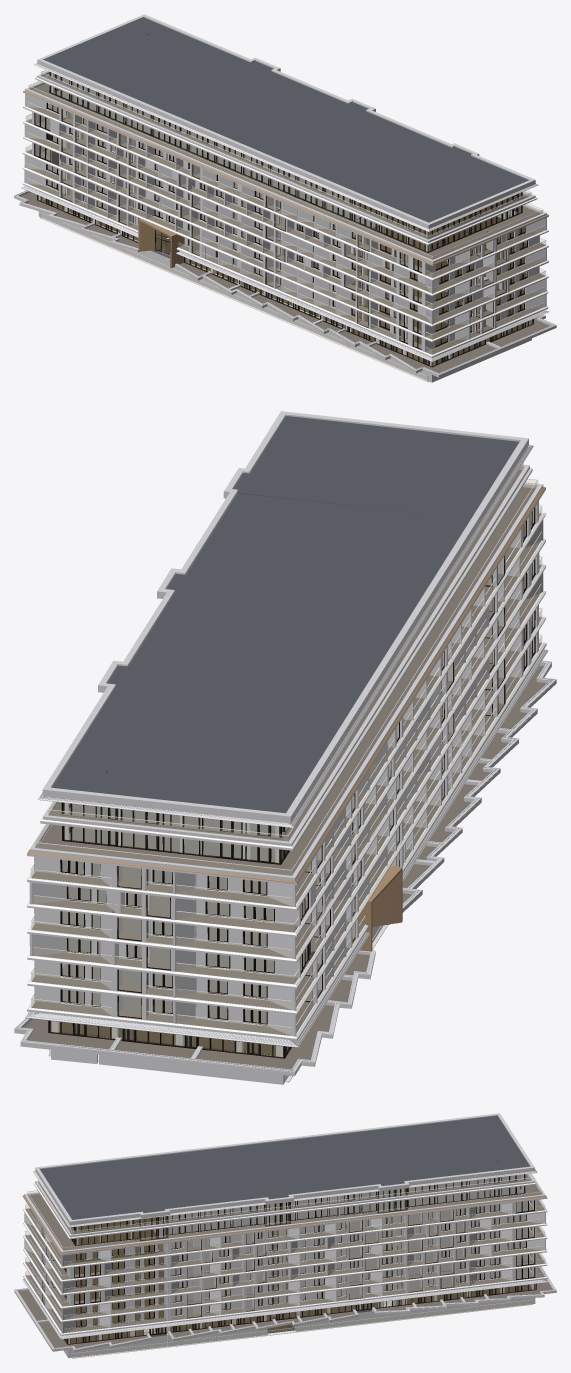
File: prime_resd_Import3DFiles1.glb
The picture shows the model from 3 angles, top to bottom: view 1: azimuth 30°, elevation 25°; view 2: azimuth 150°, elevation 25°; view 3: azimuth 270°, elevation 25°; orthographic projection. The views are drawn at different scales.
Visible parts, largest first — view 1: mesh_material_from_multipatch_21, mesh_material_from_multipatch_17, mesh_material_from_multipatch_5, mesh_material_from_multipatch_3, mesh_material_from_multipatch_13, mesh_material_from_multipatch_15, mesh_material_from_multipatch_20, mesh_material_from_multipatch_2, mesh_material_from_multipatch_7, mesh_material_from_multipatch_22, mesh_material_from_multipatch_16, mesh_material_from_multipatch_1; view 2: mesh_material_from_multipatch_17, mesh_material_from_multipatch_21, mesh_material_from_multipatch_5, mesh_material_from_multipatch_3, mesh_material_from_multipatch_13, mesh_material_from_multipatch_20, mesh_material_from_multipatch_15, mesh_material_from_multipatch_7, mesh_material_from_multipatch_22, mesh_material_from_multipatch_2; view 3: mesh_material_from_multipatch_21, mesh_material_from_multipatch_5, mesh_material_from_multipatch_17, mesh_material_from_multipatch_3, mesh_material_from_multipatch_13, mesh_material_from_multipatch_20, mesh_material_from_multipatch_15, mesh_material_from_multipatch_2, mesh_material_from_multipatch_7, mesh_material_from_multipatch_16, mesh_material_from_multipatch_1.
Part boxes in pixels (x1,y1,x2,y2): mesh_material_from_multipatch_21: (14,14,556,382); mesh_material_from_multipatch_17: (44,17,528,222); mesh_material_from_multipatch_5: (25,70,545,381); mesh_material_from_multipatch_3: (20,74,549,373); mesh_material_from_multipatch_13: (23,70,548,382); mesh_material_from_multipatch_15: (34,72,533,367); mesh_material_from_multipatch_20: (42,75,524,343); mesh_material_from_multipatch_2: (43,195,528,364); mesh_material_from_multipatch_7: (23,90,548,264); mesh_material_from_multipatch_22: (138,218,184,268); mesh_material_from_multipatch_16: (57,86,518,246); mesh_material_from_multipatch_1: (46,199,506,365); mesh_material_from_multipatch_17: (52,416,519,813); mesh_material_from_multipatch_21: (14,411,556,1084); mesh_material_from_multipatch_5: (31,462,541,1080); mesh_material_from_multipatch_3: (24,469,547,1069); mesh_material_from_multipatch_13: (26,468,546,1082); mesh_material_from_multipatch_20: (48,803,288,1055); mesh_material_from_multipatch_15: (48,507,535,1058); mesh_material_from_multipatch_7: (27,487,545,883); mesh_material_from_multipatch_22: (359,866,402,951); mesh_material_from_multipatch_2: (59,1022,275,1055); mesh_material_from_multipatch_21: (14,1113,556,1358); mesh_material_from_multipatch_5: (25,1174,545,1357); mesh_material_from_multipatch_17: (40,1115,529,1219); mesh_material_from_multipatch_3: (18,1174,552,1348); mesh_material_from_multipatch_13: (23,1173,547,1358); mesh_material_from_multipatch_20: (71,1175,531,1336); mesh_material_from_multipatch_15: (42,1174,536,1344); mesh_material_from_multipatch_2: (64,1216,531,1343); mesh_material_from_multipatch_7: (22,1195,547,1254); mesh_material_from_multipatch_16: (72,1175,516,1242); mesh_material_from_multipatch_1: (83,1285,521,1342).
Size of the model in its own units: 72.02 by 39.14 by 138.
